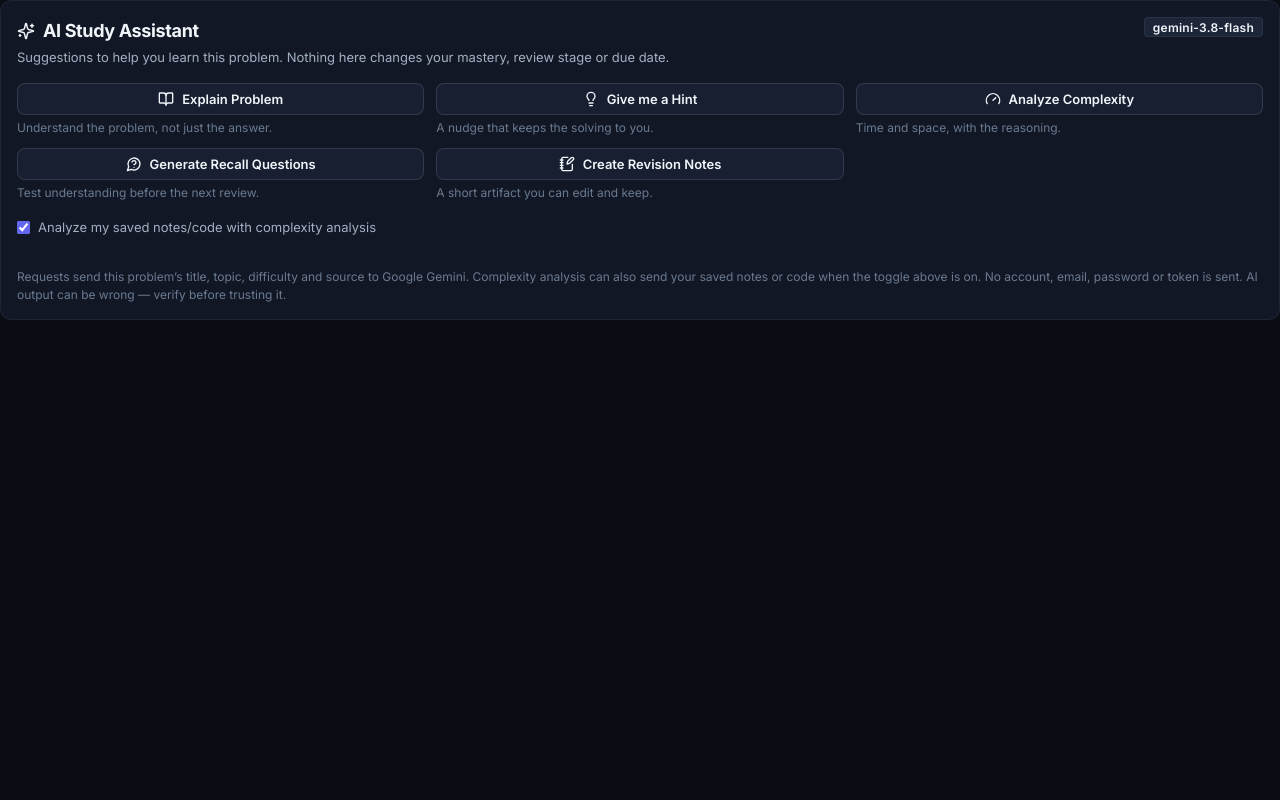
it: AIAssistantPanel › renders a hint with its level and never as a full solution
The width and height of the screenshot is (1280, 800).
Click the button "Give me a Hint".
click(640, 99)  # box x1=436 y1=83 x2=844 y2=115
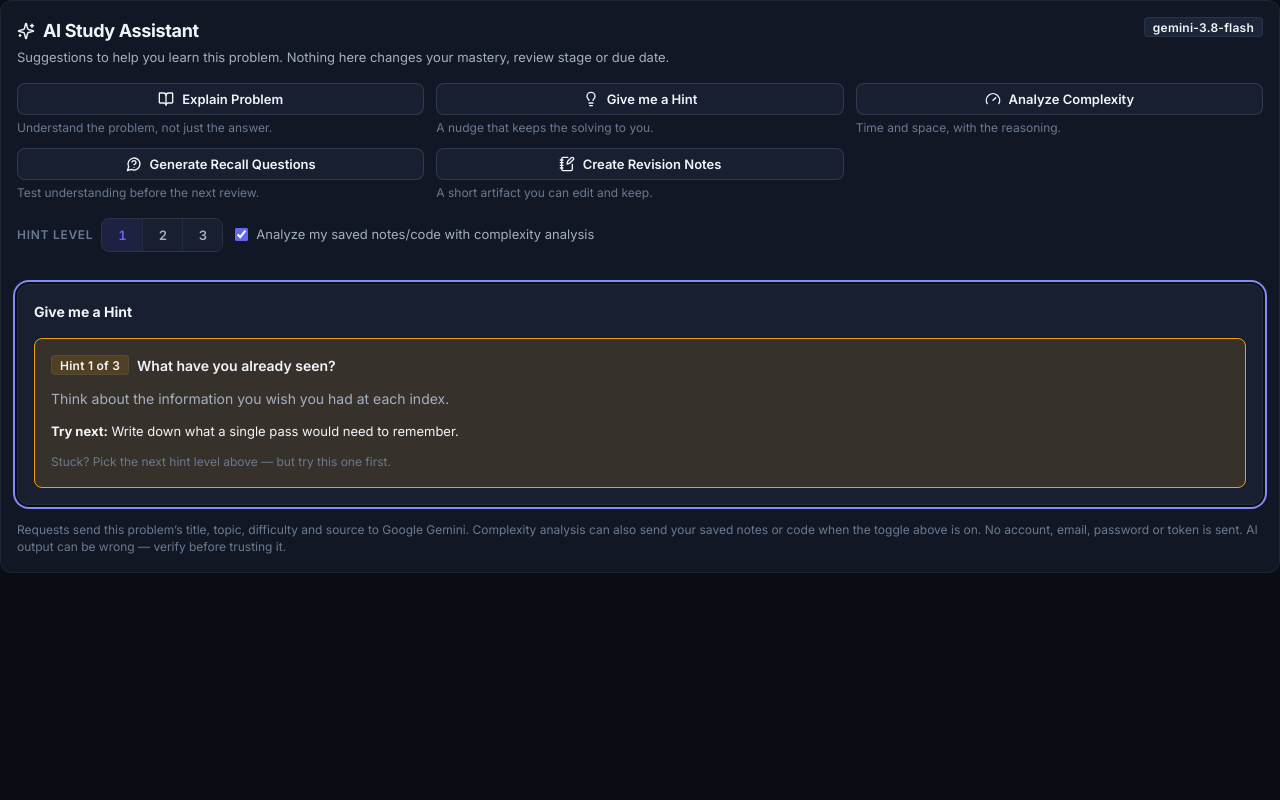
Check: the text "Hint 1 of 3" is shown, box x1=51 y1=355 x2=129 y2=375
Check: the text "Think about the information you wish you had at each index." is shown, box x1=51 y1=390 x2=449 y2=407
Check: the text "Try next:" is shown, box x1=51 y1=423 x2=108 y2=439
